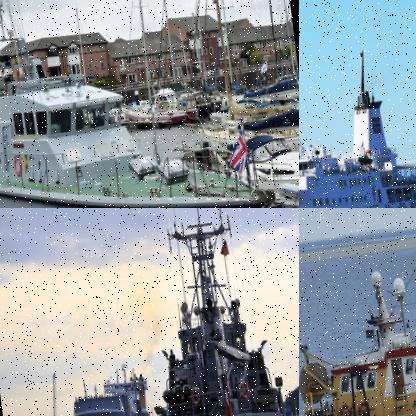Fishing Boat: (299, 208, 415, 415)
Merchant Ship: (299, 39, 415, 207), (67, 360, 154, 415)
Patrol Boat: (0, 0, 276, 207), (122, 208, 298, 415)
Sails Boat: (158, 0, 298, 167), (104, 0, 189, 130)
